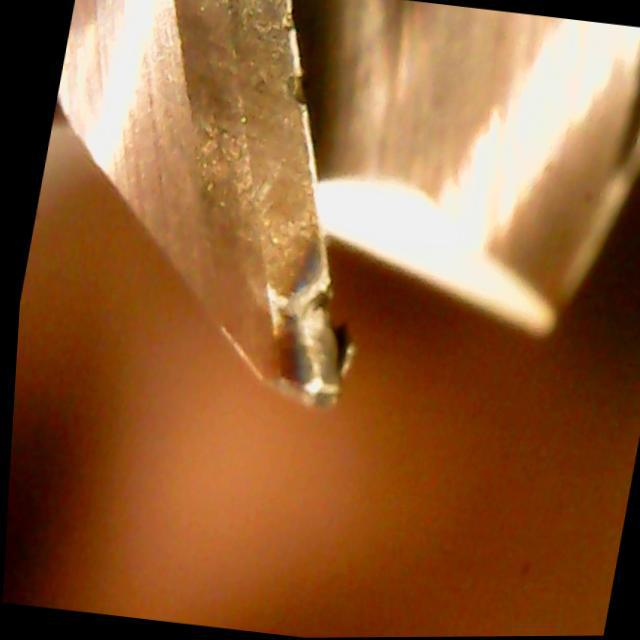Tool-wear-class-1: (155, 68, 413, 428)
